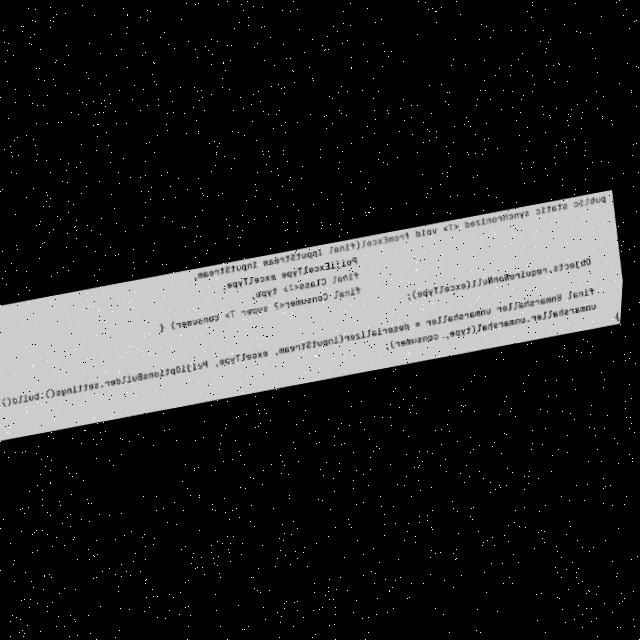code_screen: (0, 190, 623, 438)
